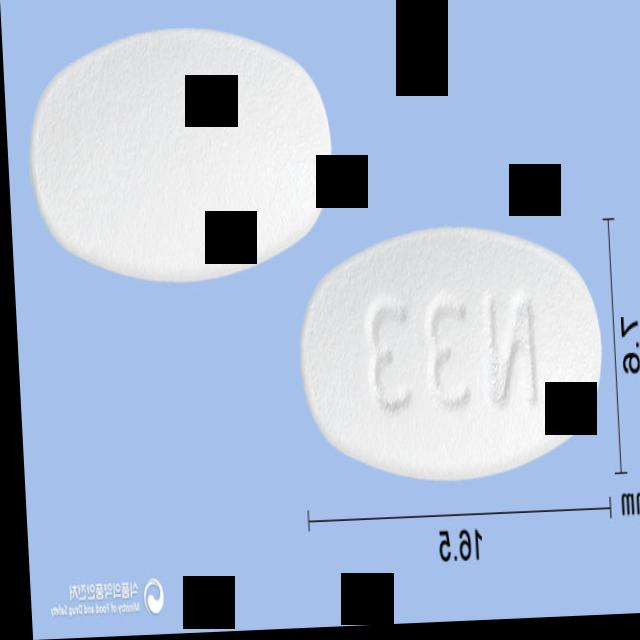Moxiclen Tab: (24, 21, 336, 289), (292, 224, 603, 490)
